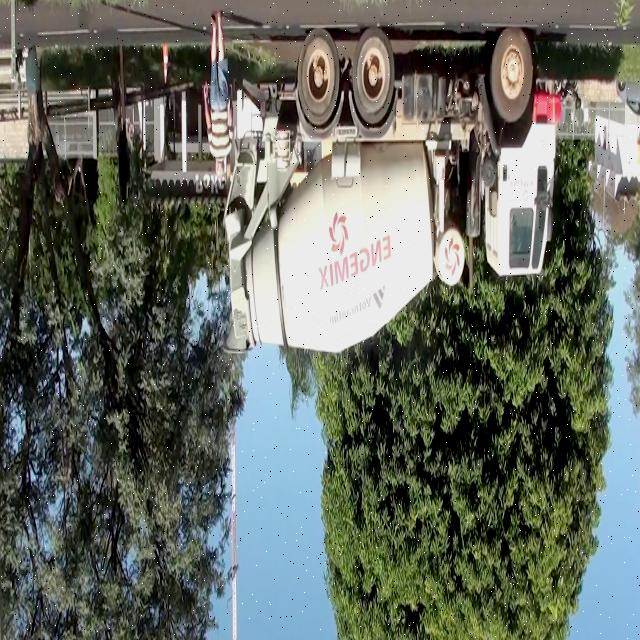-axle: (352, 27, 394, 125), (488, 28, 532, 120), (299, 29, 340, 126)
